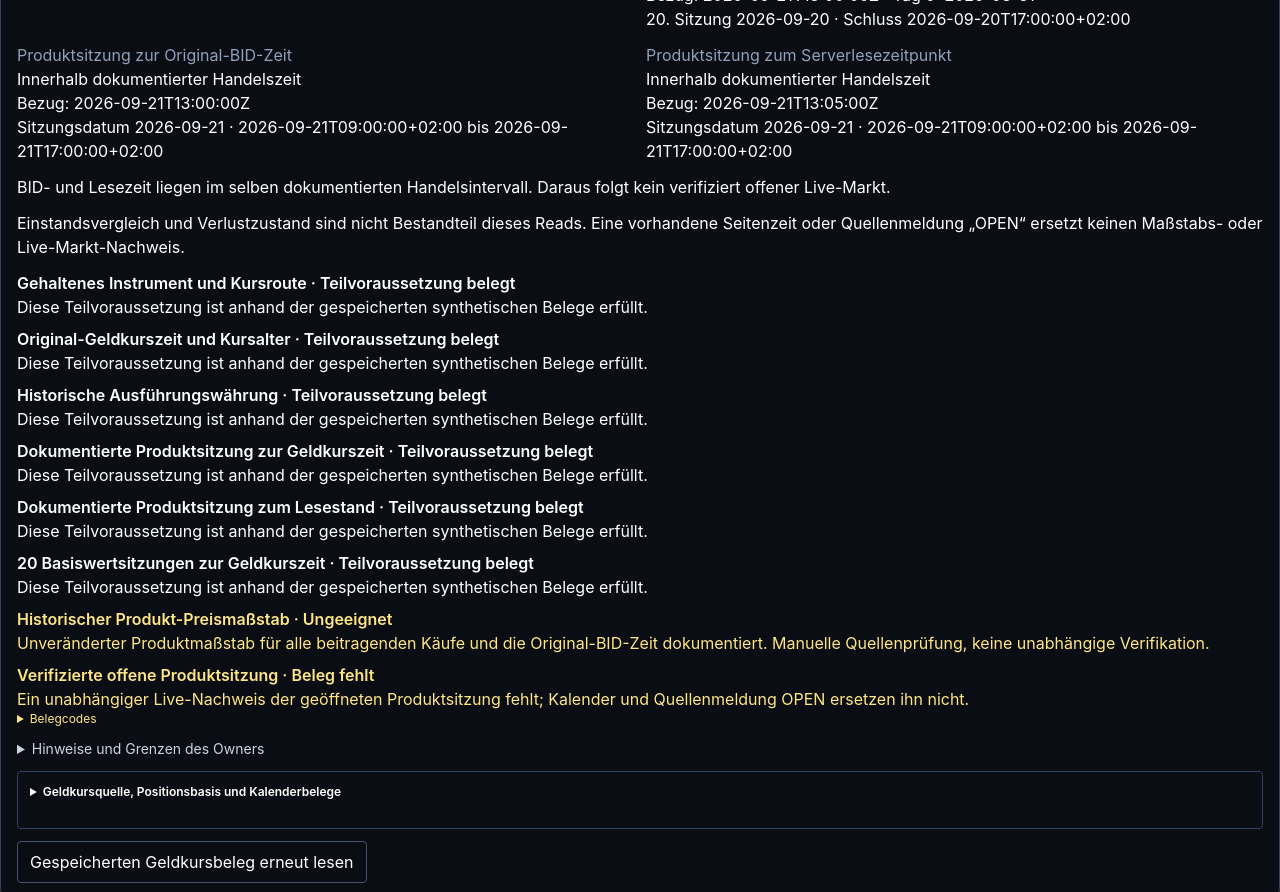
shows WITHDRAWN without applying a factor or hiding the original document
(page scrolled)
Expected: the text "Historischer Produkt-Preismaßstab · Ungeeignet" is shown, [17,609,392,629]
Click the heading "Geldkursquelle, Positionsbasis und Kalenderbelege": (192, 792) [43,784,341,799]
(page scrolled)
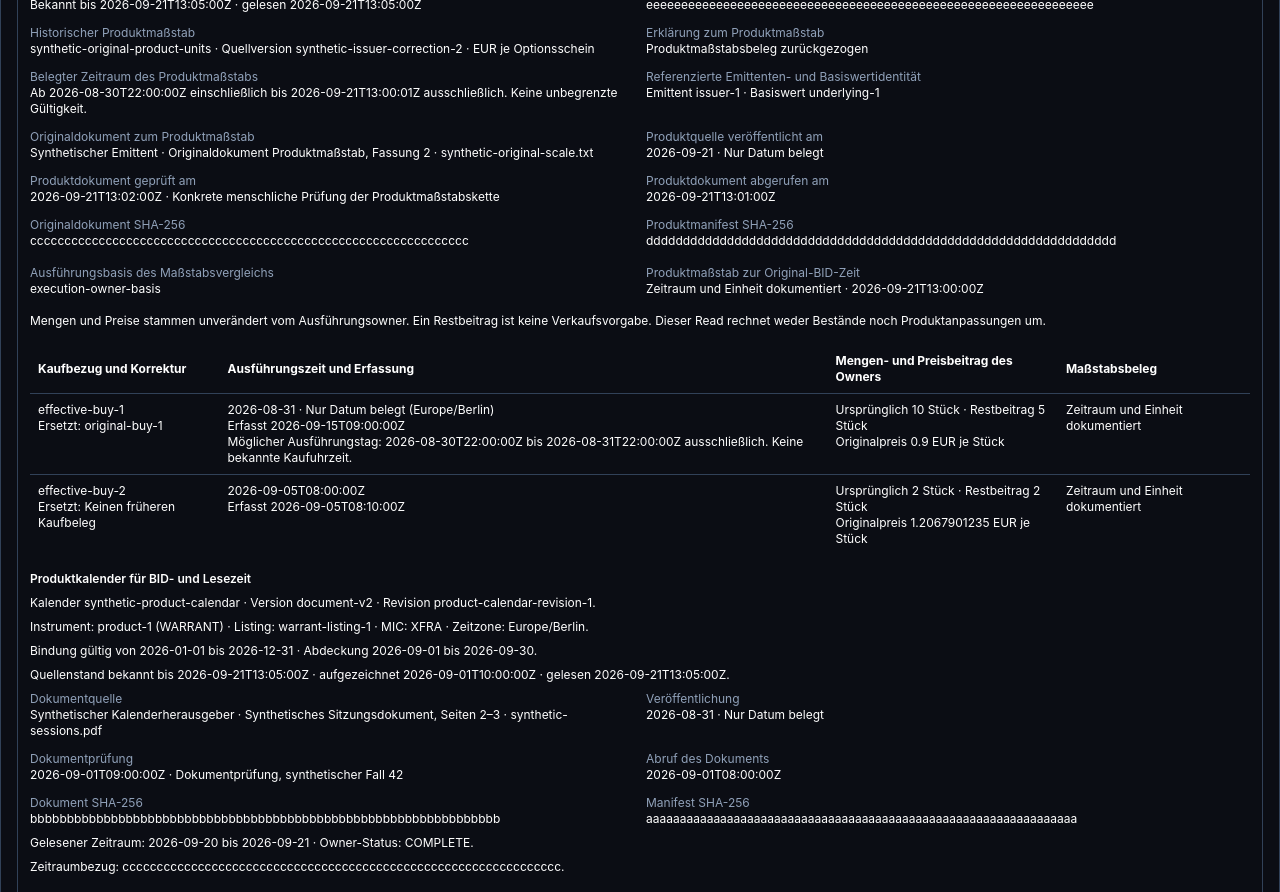
Now the text "Produktmaßstabsbeleg zurückgezogen" is shown, box [646,41,868,56]
Now the text "Dieser Read rechnet weder Bestände noch Produktanpassungen um" is shown, box [30,313,1046,328]
